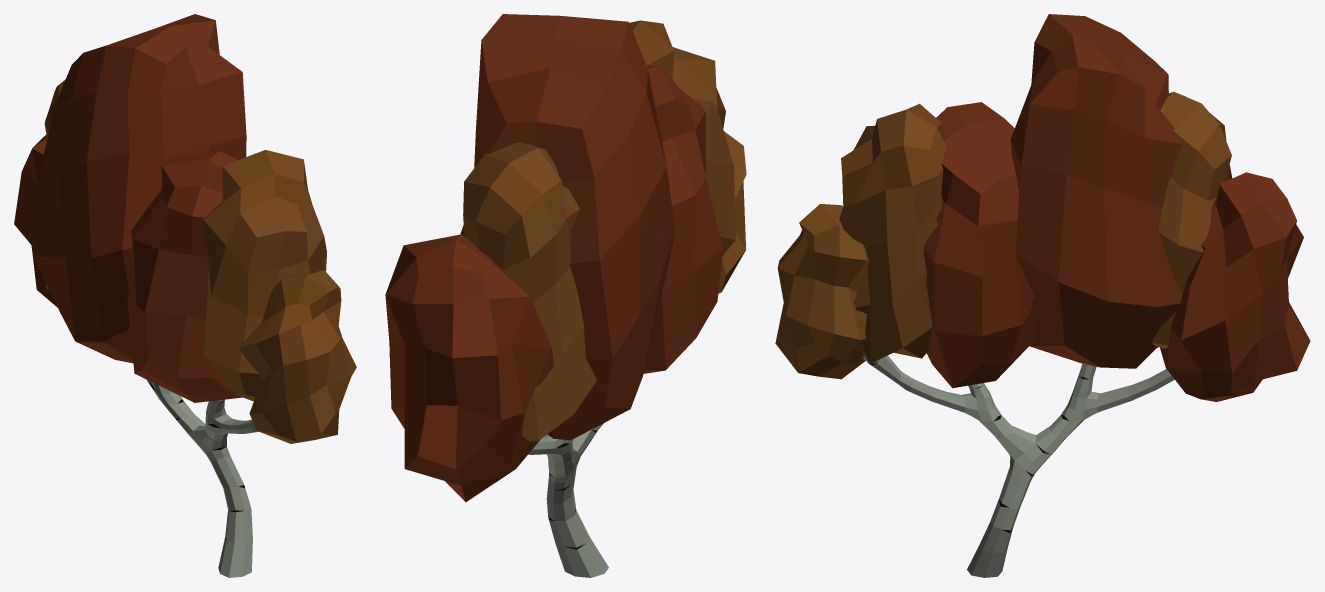
File: BirchTree_Autumn_4.obj
3 views of the same model, side by side, from view 1: azimuth 30°, elevation 25°; view 2: azimuth 150°, elevation 25°; view 3: azimuth 270°, elevation 25° (orthographic). The views are drawn at different scales.
Visible parts, largest first — view 1: BirchTree_Autumn_4_Cube.081; view 2: BirchTree_Autumn_4_Cube.081; view 3: BirchTree_Autumn_4_Cube.081.
Part boxes in pixels (left/top/right/bottom): BirchTree_Autumn_4_Cube.081: left=14, top=14, right=356, bottom=577; BirchTree_Autumn_4_Cube.081: left=385, top=14, right=746, bottom=577; BirchTree_Autumn_4_Cube.081: left=775, top=14, right=1310, bottom=577.
Bounding box in the file's own units: 1.15 × 3.56 × 3.29.
